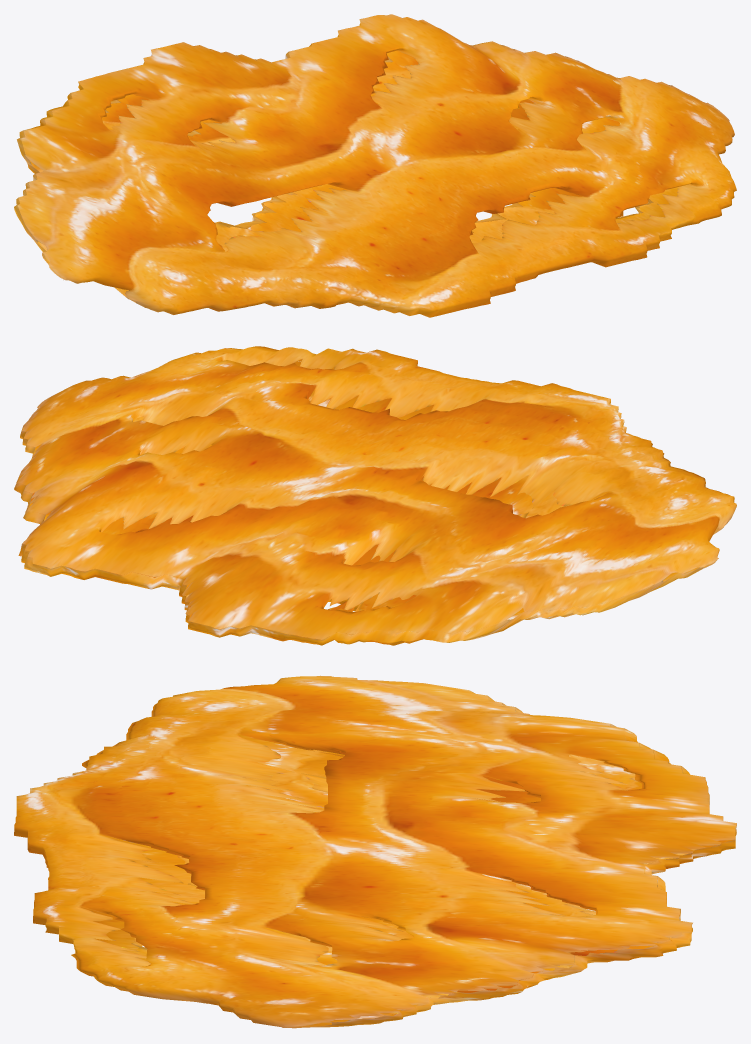
Rendered from cheddar.glb.
3 views of the same model, one above another, from view 1: azimuth 30°, elevation 25°; view 2: azimuth 150°, elevation 25°; view 3: azimuth 270°, elevation 25° (orthographic). The views are drawn at different scales.
Parts seen in each view (by area): view 1: cheddar; view 2: cheddar; view 3: cheddar.
Boxes of the visible parts, x1,y1,x2,y2 form: cheddar: (14, 14, 736, 317); cheddar: (14, 346, 736, 645); cheddar: (14, 675, 736, 1028).
Size of the model in its own units: 1.02 by 0.045 by 0.89.
1 material, 1 textured.
